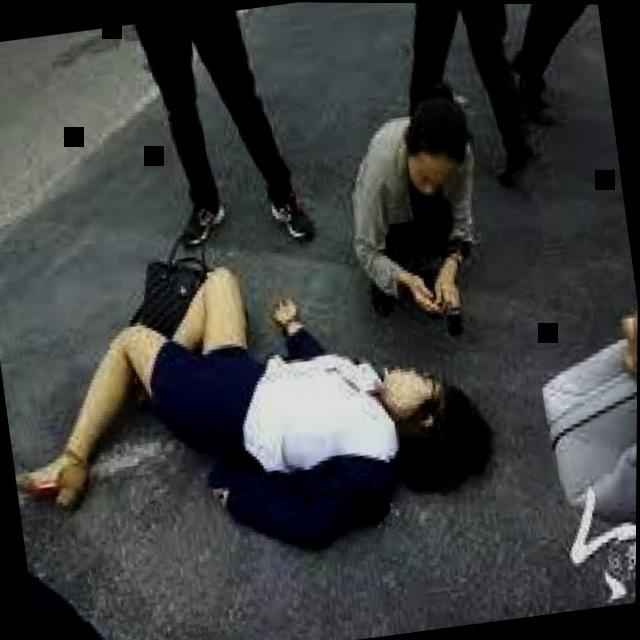Fall-Detected: (0, 199, 520, 593)
